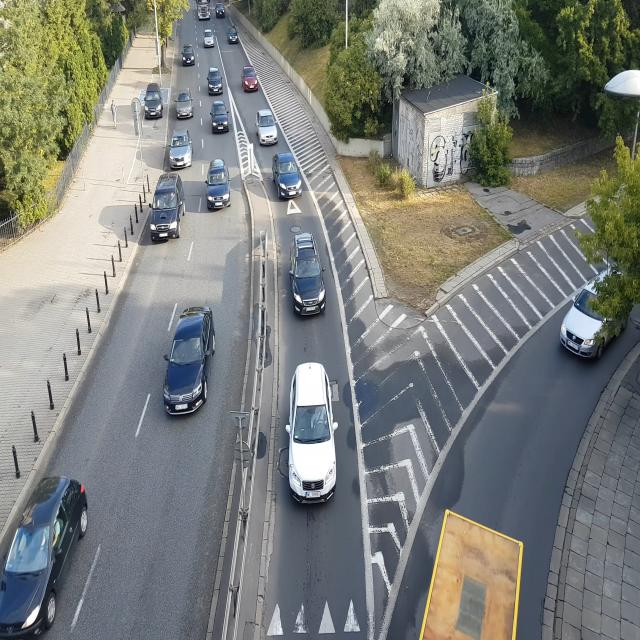car: (412, 503, 525, 640), (0, 477, 90, 640), (283, 362, 343, 510), (559, 238, 624, 368), (163, 308, 218, 418), (290, 235, 328, 316), (147, 174, 185, 242), (273, 151, 304, 199), (208, 159, 232, 212), (168, 131, 194, 171), (256, 110, 279, 146), (142, 88, 164, 119), (212, 102, 231, 134), (175, 90, 195, 120), (207, 71, 226, 96), (241, 65, 258, 90), (180, 45, 198, 65), (214, 1, 227, 23), (202, 30, 215, 48), (228, 27, 240, 44)
truck: (197, 0, 212, 24)
